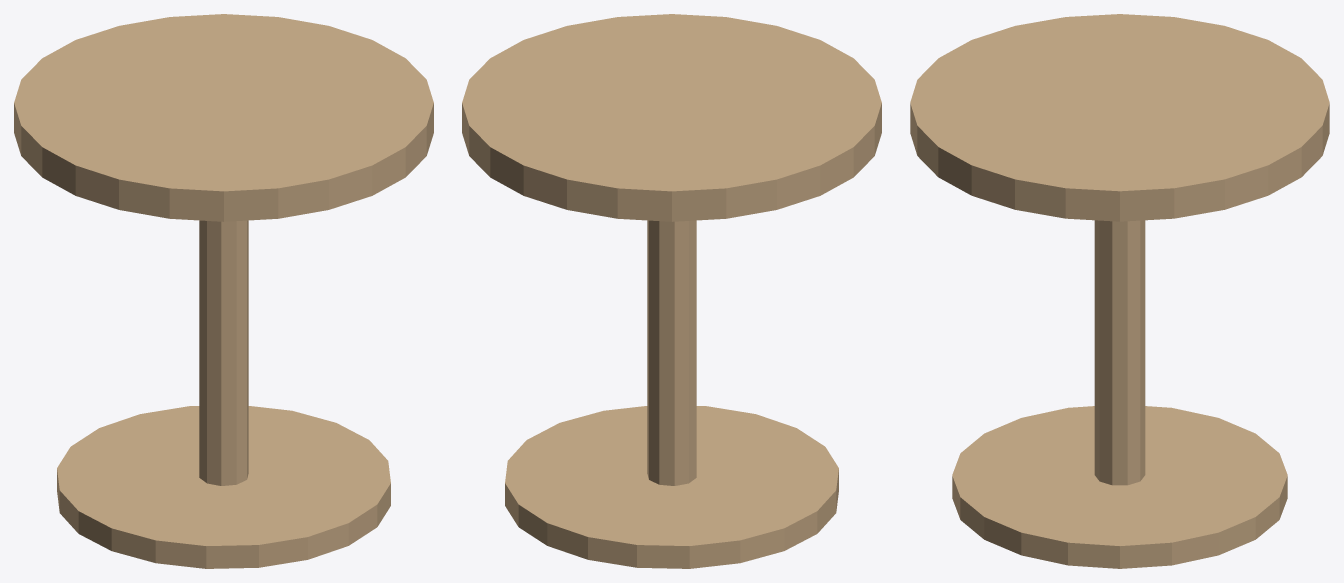
File: fu_side_table.glb
3 renders of one model, left to right at view 1: azimuth 30°, elevation 25°; view 2: azimuth 150°, elevation 25°; view 3: azimuth 270°, elevation 25°, orthographic.
Parts seen in each view (by area): view 1: fu_side_table; view 2: fu_side_table; view 3: fu_side_table.
Boxes of the visible parts, box(x1,y1,x2,y2) form: fu_side_table: box(14, 14, 433, 568); fu_side_table: box(462, 14, 881, 568); fu_side_table: box(910, 14, 1329, 568).
Size of the model in its own units: 0.5 by 0.52 by 0.5.
